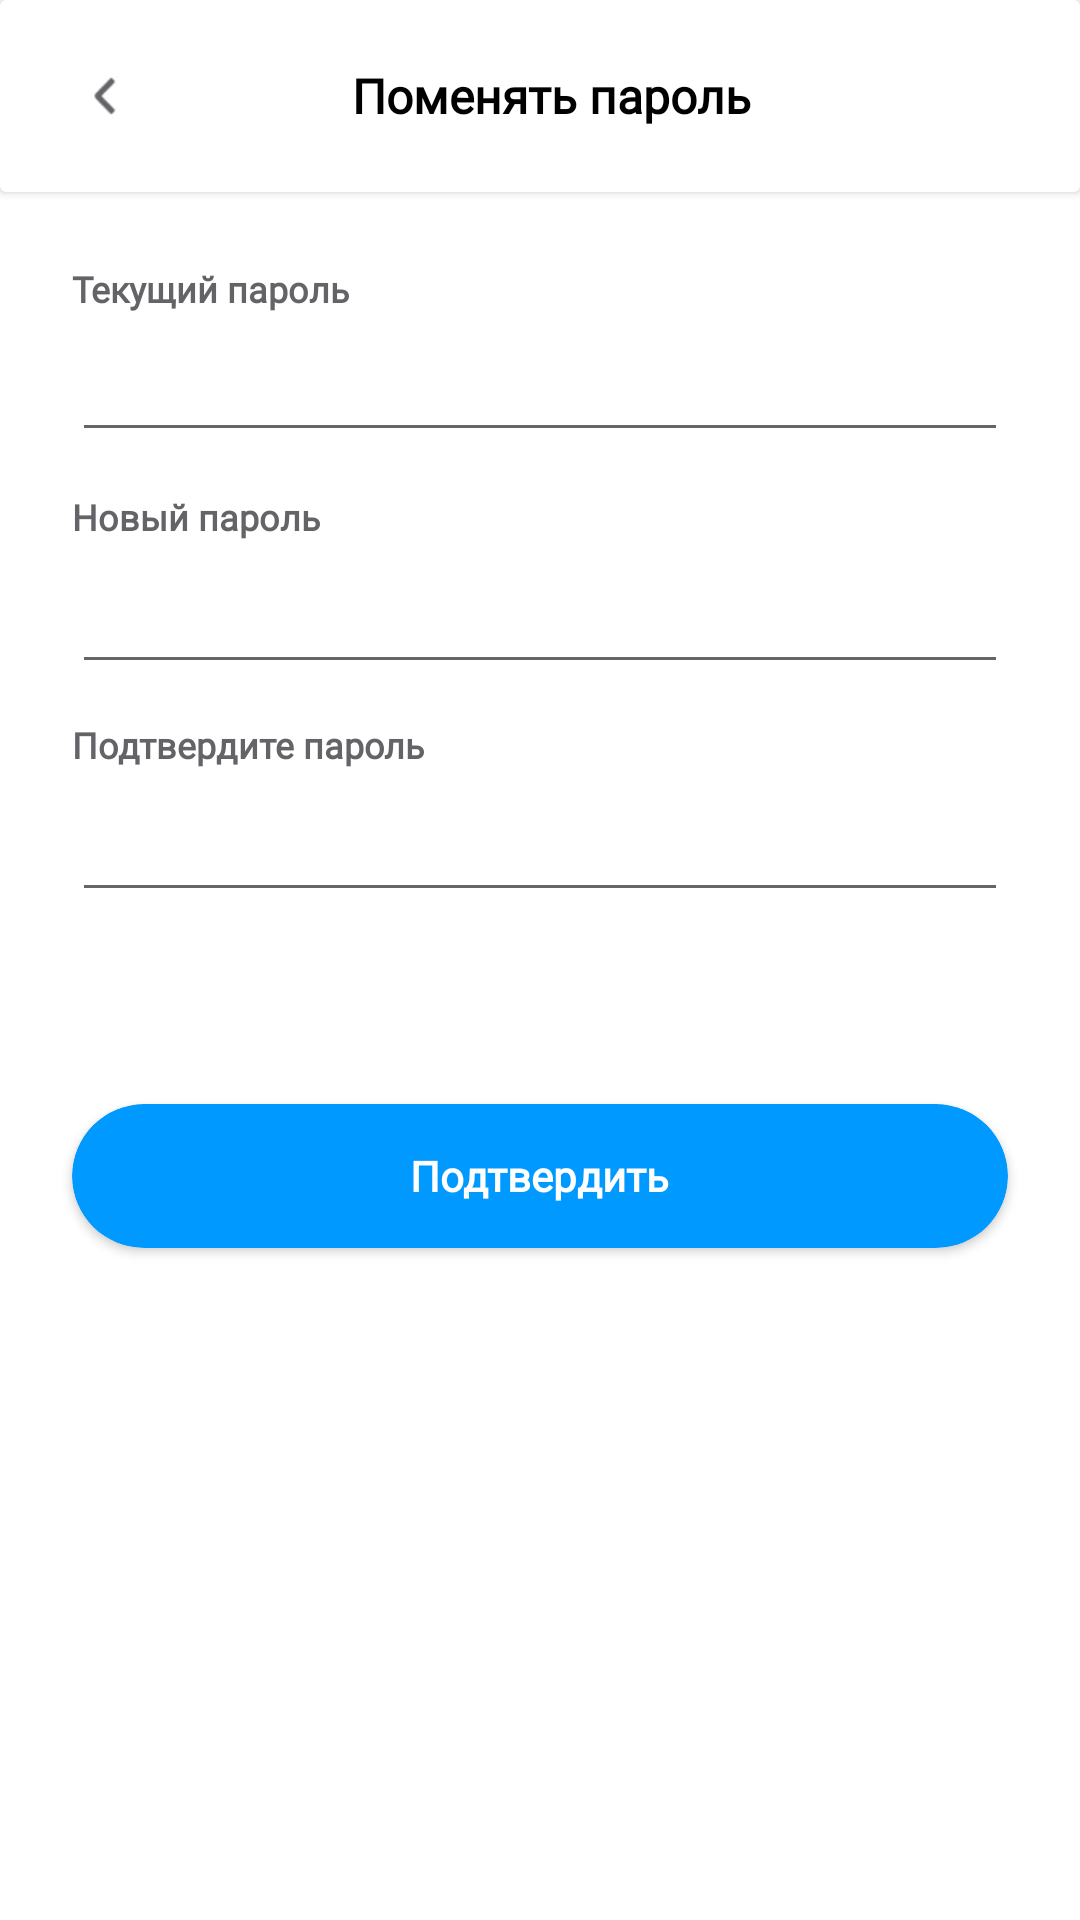

Named icons in this screenshot (1080×1920) and their centers, [x,y]:
array back: [105,96]
